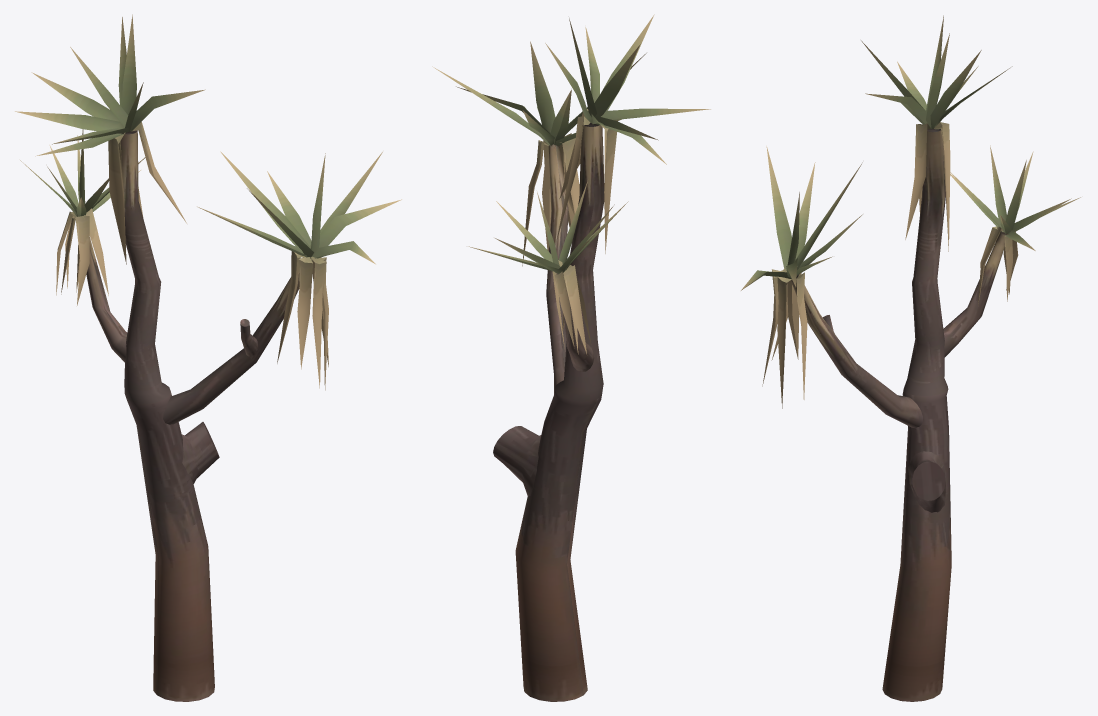
The picture shows the model from 3 angles, left to right: view 1: azimuth 30°, elevation 25°; view 2: azimuth 150°, elevation 25°; view 3: azimuth 270°, elevation 25°; orthographic projection. The views are drawn at different scales.
Parts seen in each view (by area): view 1: body0_model0_lod0_mesh0; view 2: body0_model0_lod0_mesh0; view 3: body0_model0_lod0_mesh0.
Boxes of the visible parts, x1,y1,x2,y2 form: body0_model0_lod0_mesh0: (15, 14, 401, 701); body0_model0_lod0_mesh0: (432, 14, 710, 701); body0_model0_lod0_mesh0: (741, 15, 1080, 701).
Size of the model in its own units: 136 by 288 by 140.
1 material, 1 textured.
